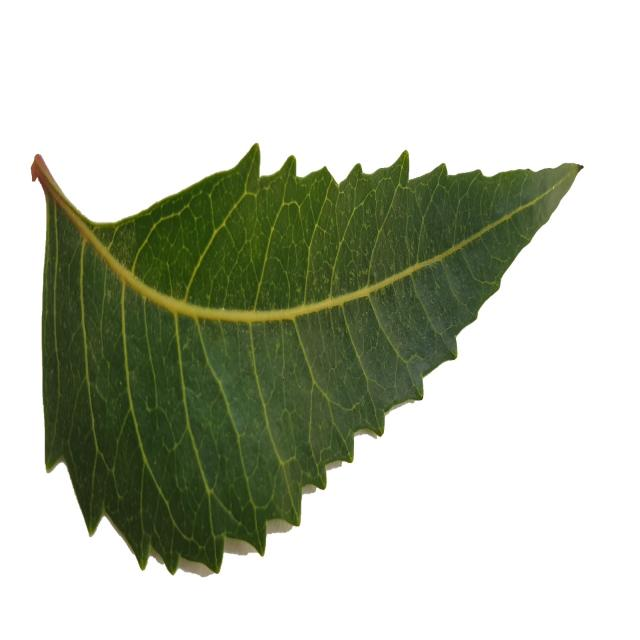Medicinal-Neem: (30, 138, 585, 580)
